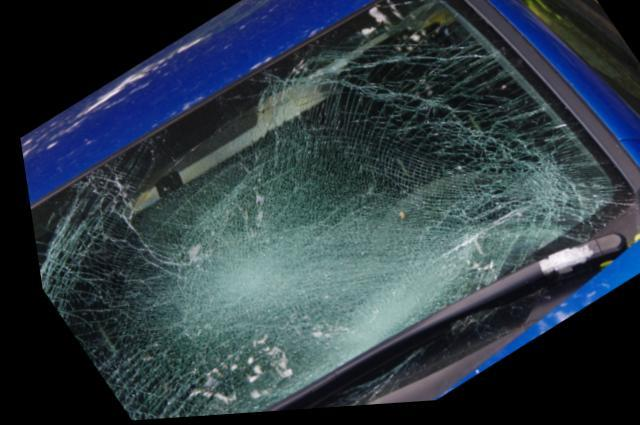glass shatter: (24, 0, 627, 421)
